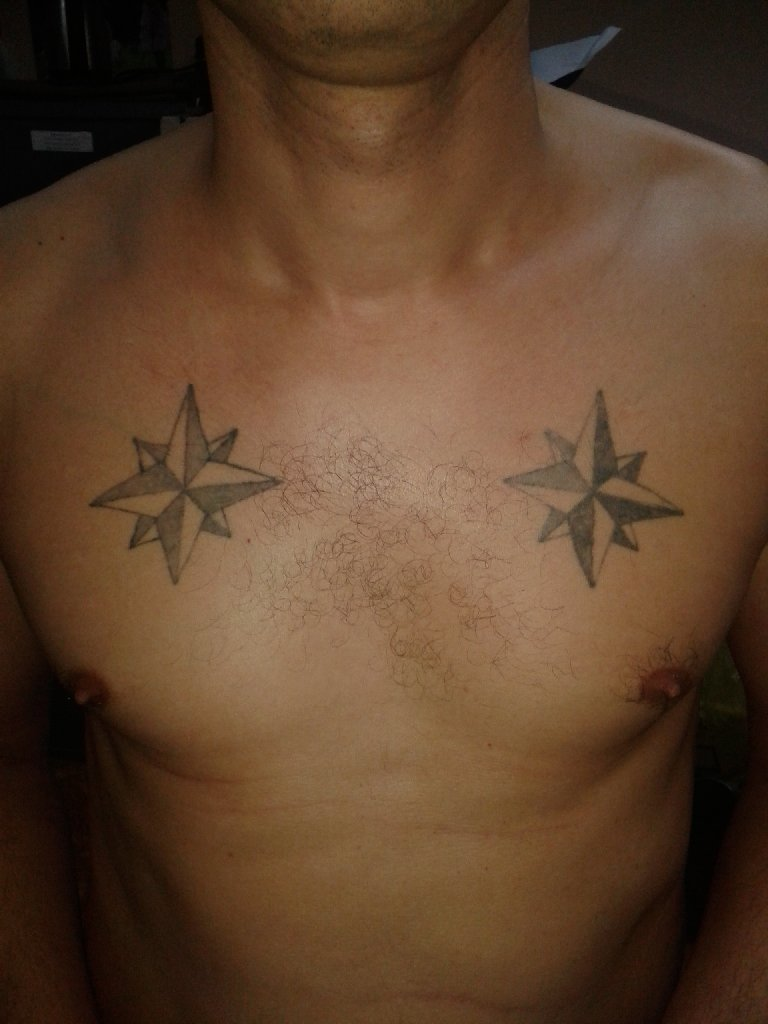tatu4_zvezda: (93, 383, 283, 591), (502, 387, 683, 588)
